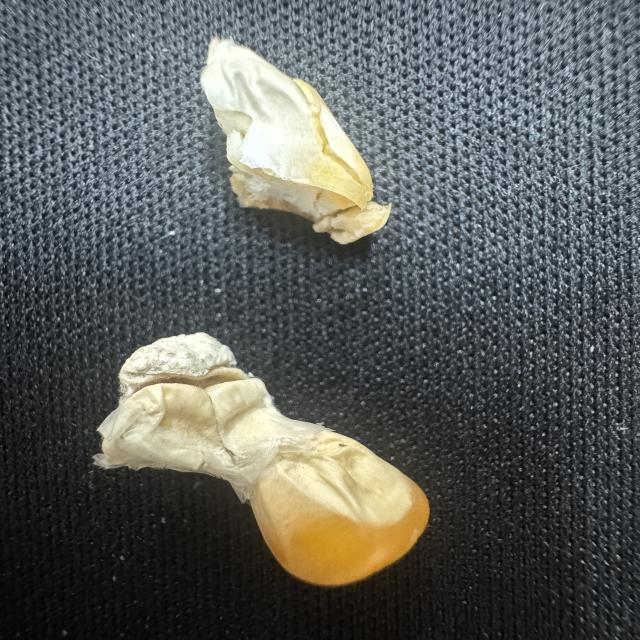Bad-Seed: (92, 318, 440, 615), (180, 26, 402, 252)
